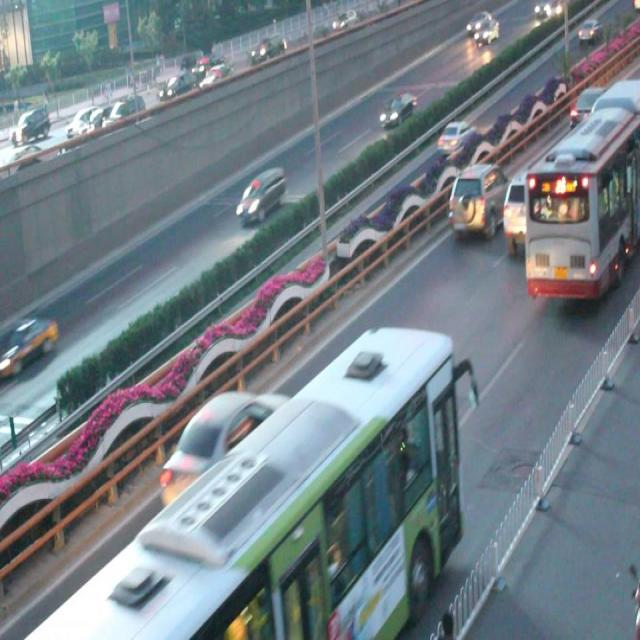car: (158, 391, 290, 503), (502, 162, 574, 261), (447, 163, 506, 236), (9, 311, 58, 379), (434, 118, 476, 158), (378, 89, 416, 131)
truck: (235, 166, 287, 226)
van: (30, 324, 471, 640), (526, 82, 640, 294)
